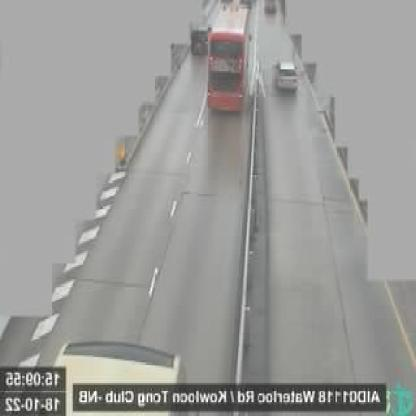Bus: (209, 10, 252, 113)
Car: (274, 60, 300, 96), (189, 22, 211, 57), (262, 0, 277, 15)
